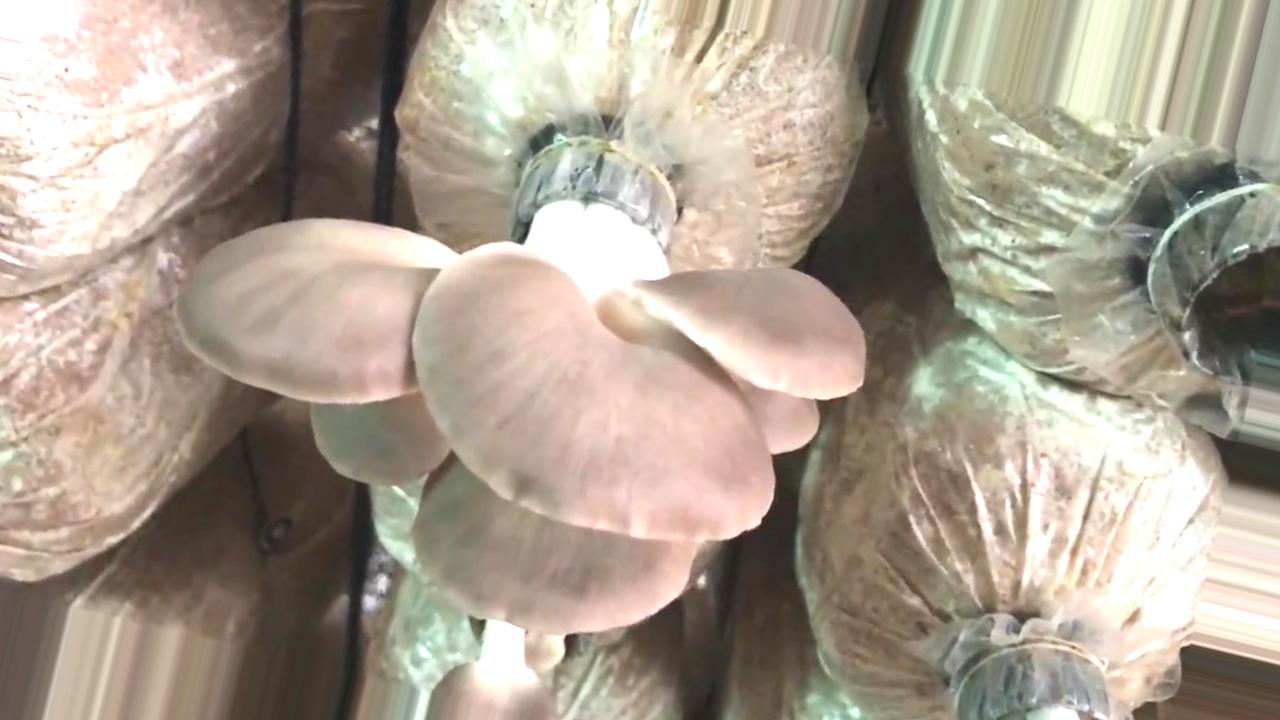nam: (175, 147, 868, 637), (427, 620, 567, 720)
